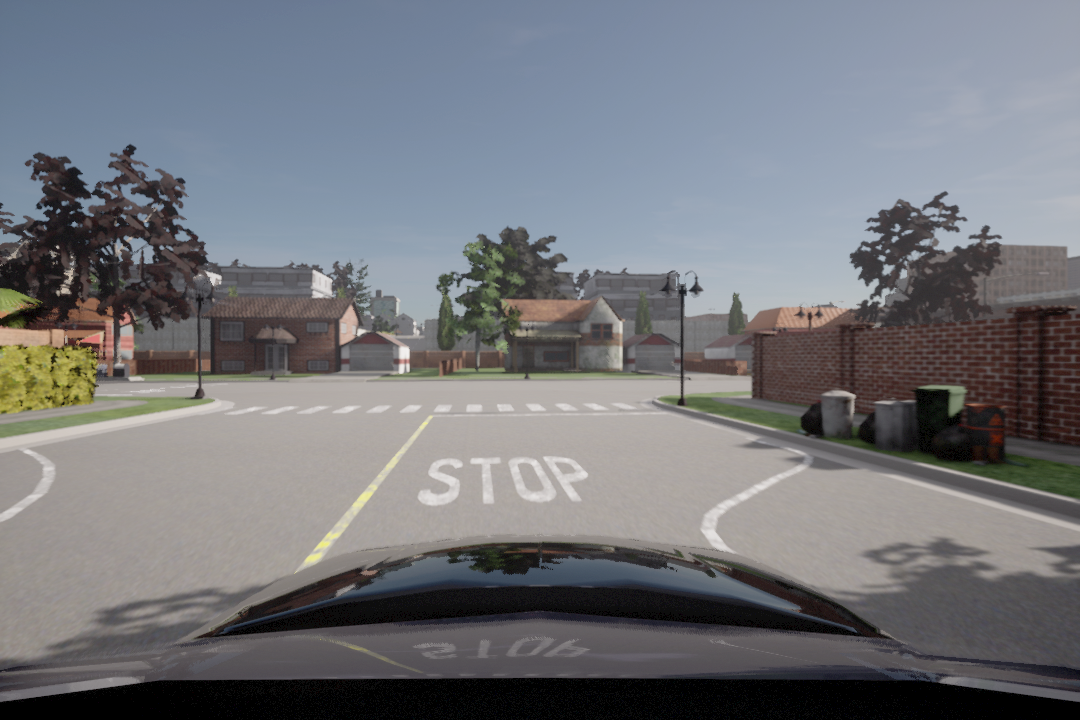walkside: (237, 399, 656, 417)
